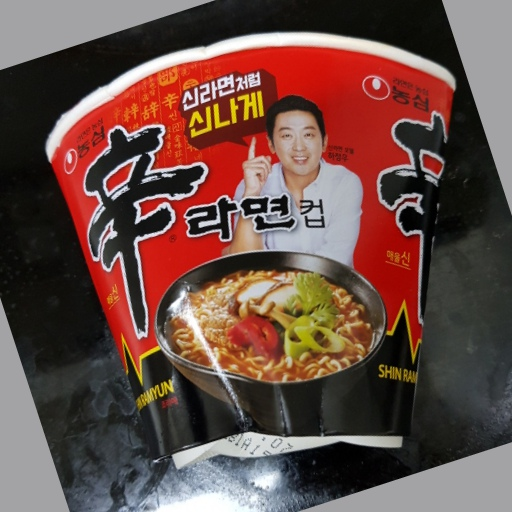Paper_1: (42, 29, 454, 469)
